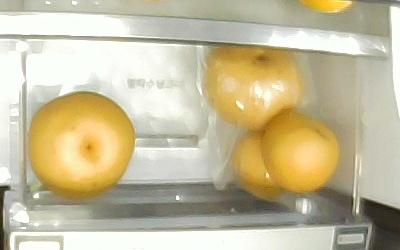pear: (29, 92, 135, 195), (260, 109, 339, 192)
pear_vinyl: (201, 43, 301, 131), (233, 133, 284, 197)
